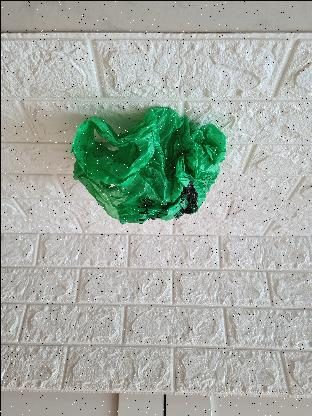Others: (68, 103, 226, 226)
